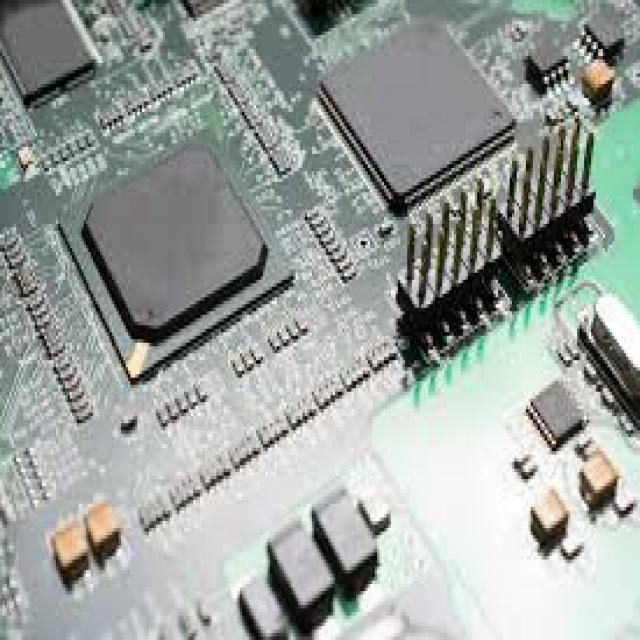pcb: (0, 0, 638, 637), (370, 273, 638, 636), (310, 486, 377, 595)
